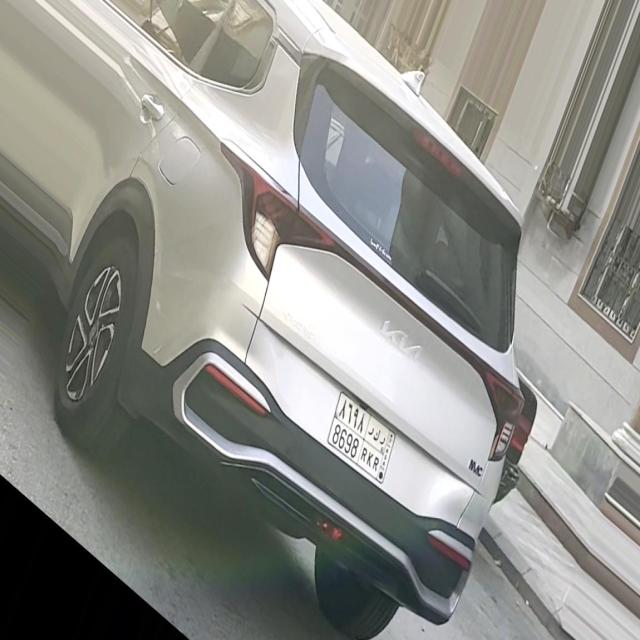Car-plate: (318, 380, 409, 490)
